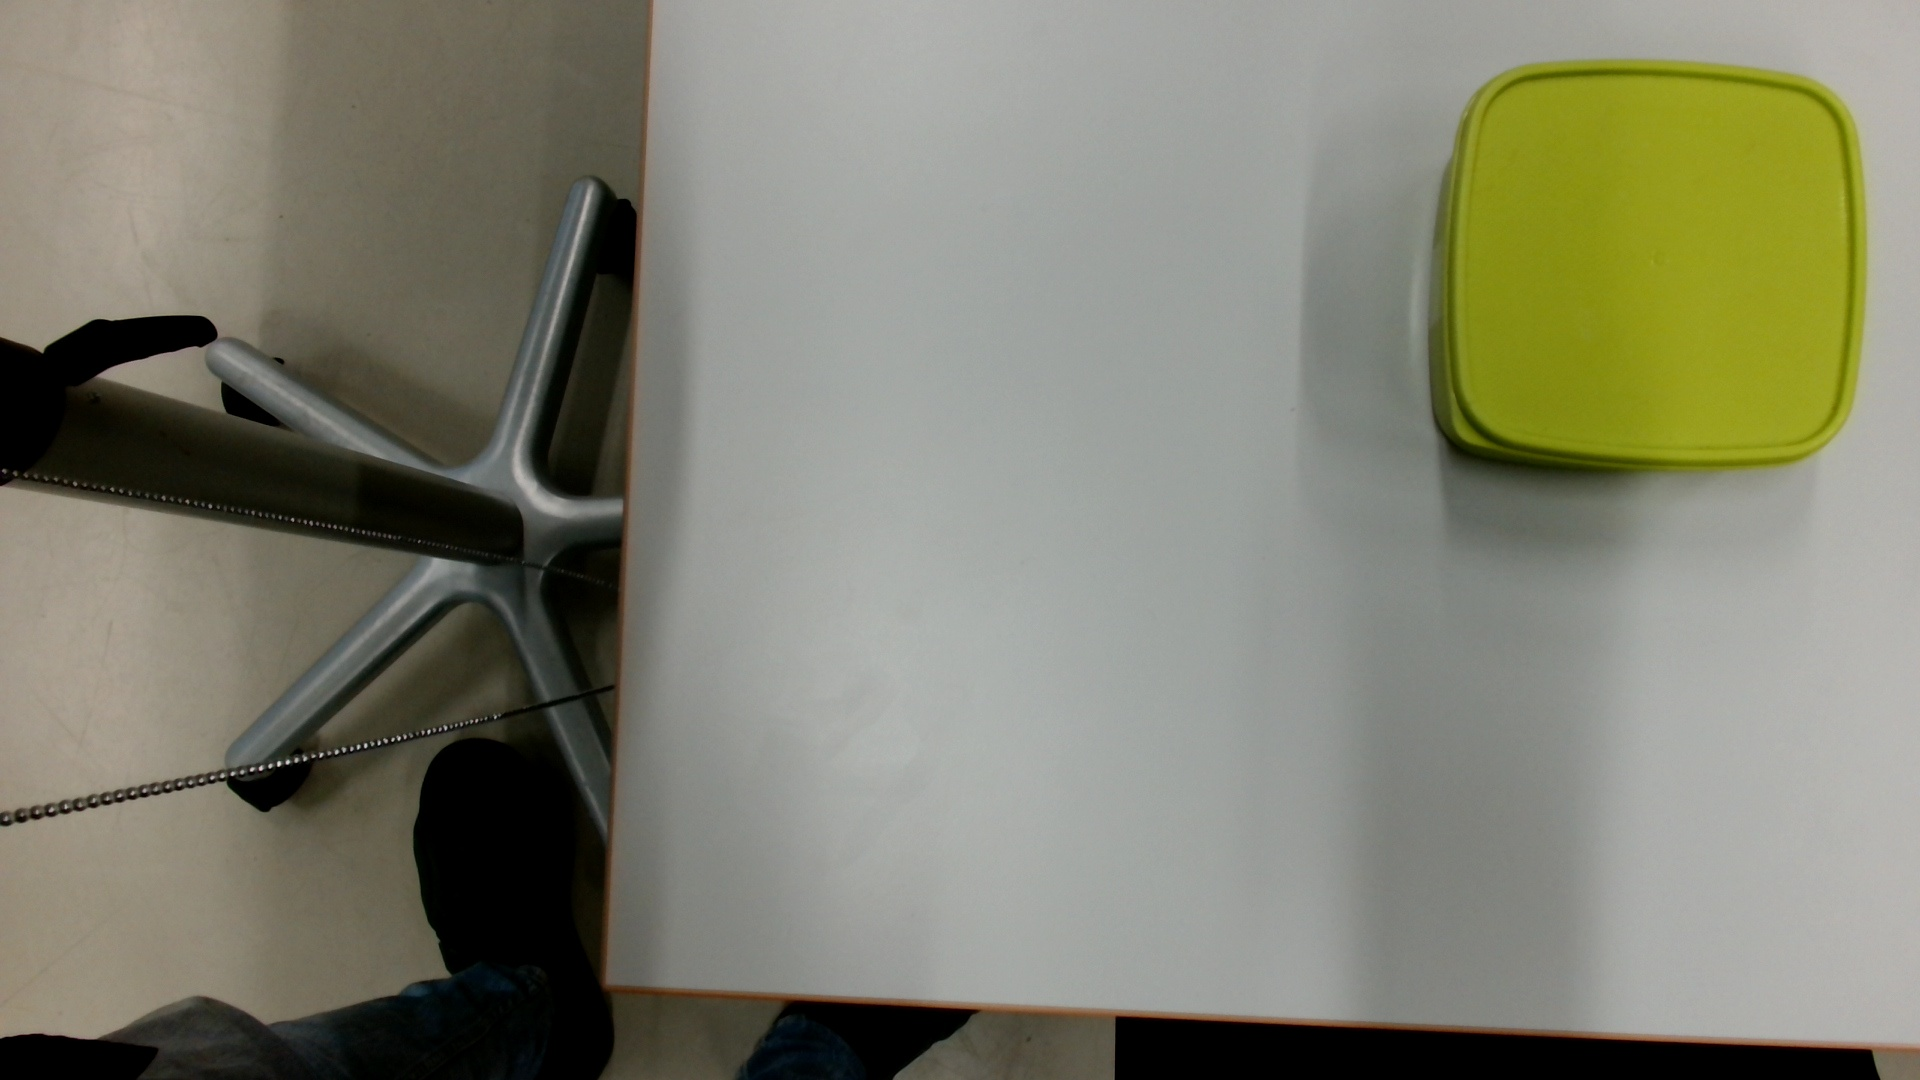Box: (1422, 51, 1874, 489)
